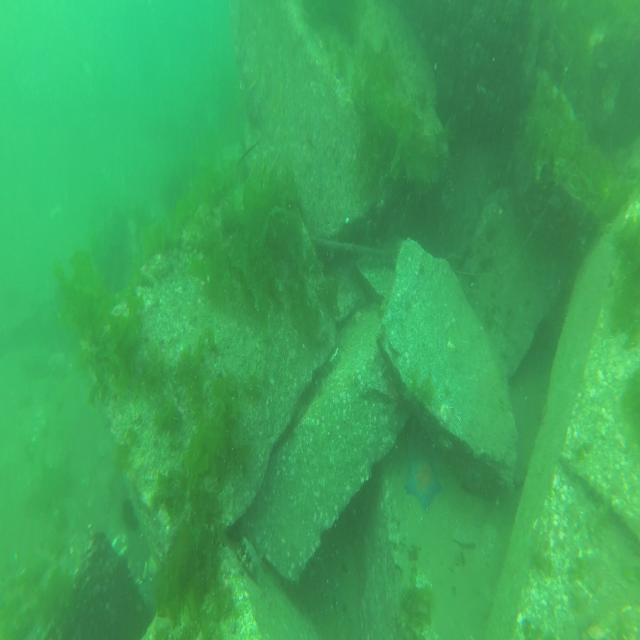echinus: (122, 498, 139, 531)
starfish: (406, 455, 441, 507)
